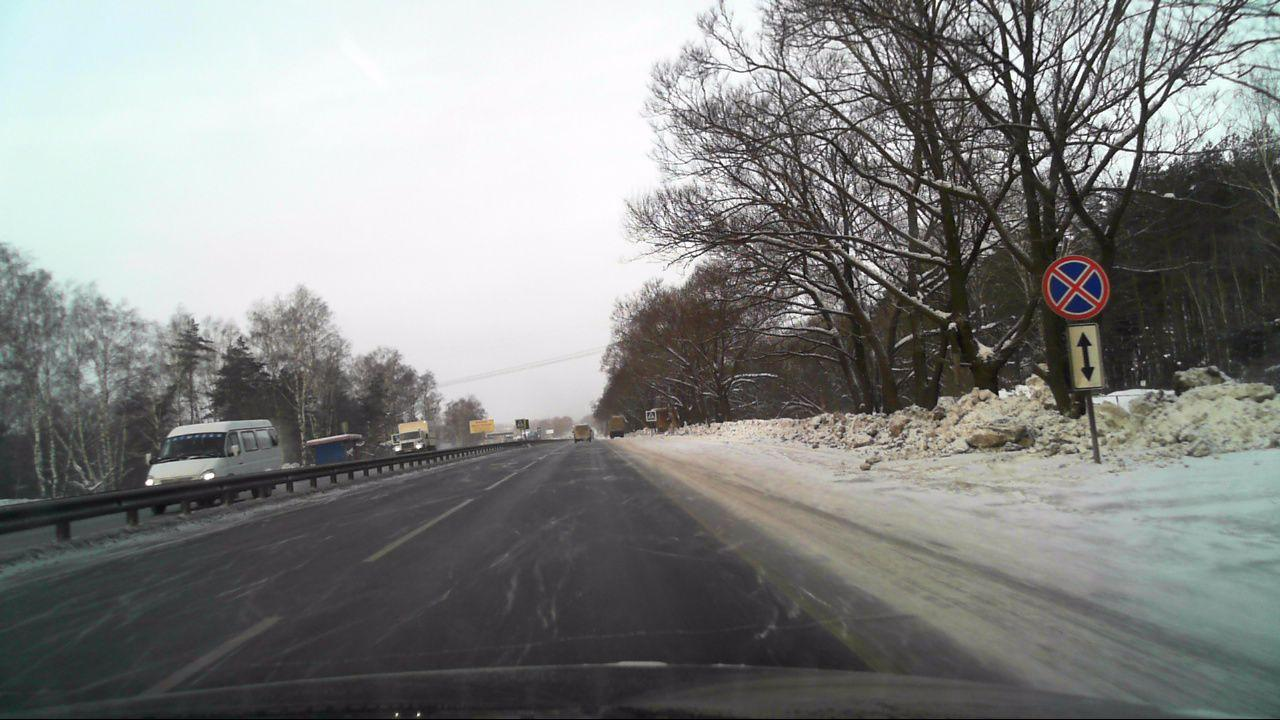3_27: (1038, 252, 1113, 320)
5_19_1: (647, 411, 656, 421)
5_19_2: (516, 420, 525, 428)
8_2_4: (1065, 323, 1104, 390)
